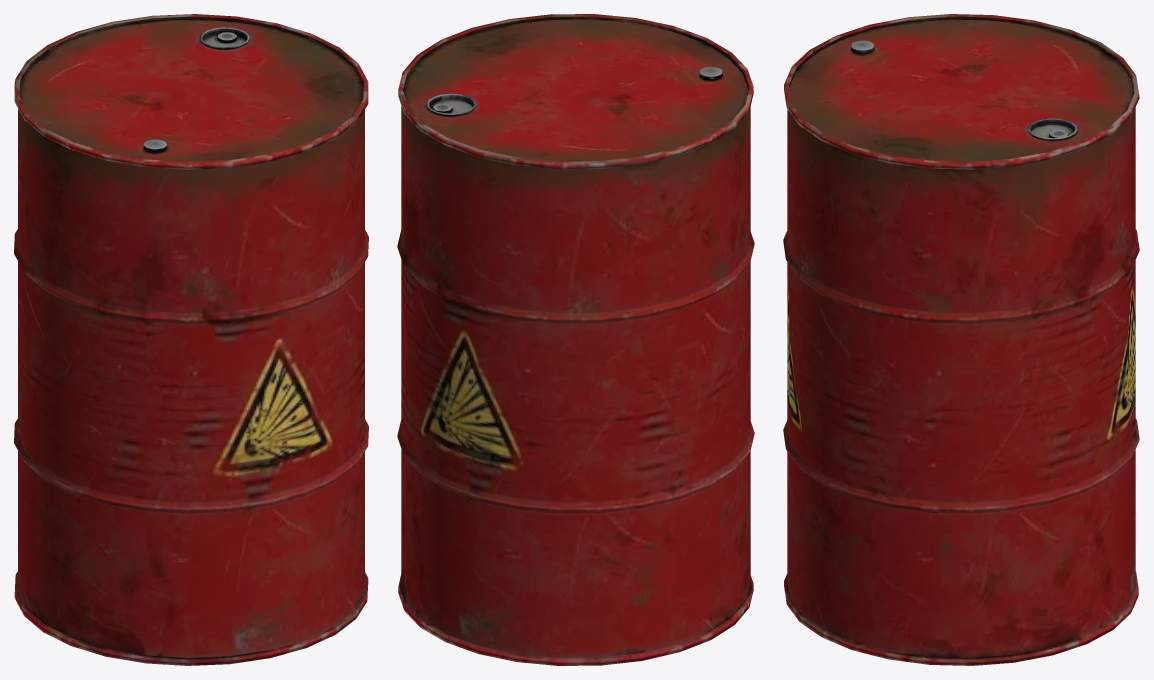
Rendered from barrel.glb.
3 renders of one model, left to right at view 1: azimuth 30°, elevation 25°; view 2: azimuth 150°, elevation 25°; view 3: azimuth 270°, elevation 25°, orthographic.
Visible parts, largest first — view 1: Barrel_01; view 2: Barrel_01; view 3: Barrel_01.
Boxes of the visible parts, x1,y1,x2,y2 form: Barrel_01: [14, 14, 368, 665]; Barrel_01: [397, 14, 754, 665]; Barrel_01: [783, 14, 1139, 665].
Bounding box in the file's own units: 0.5629 × 0.88 × 0.5629.
1 material, 1 textured.
